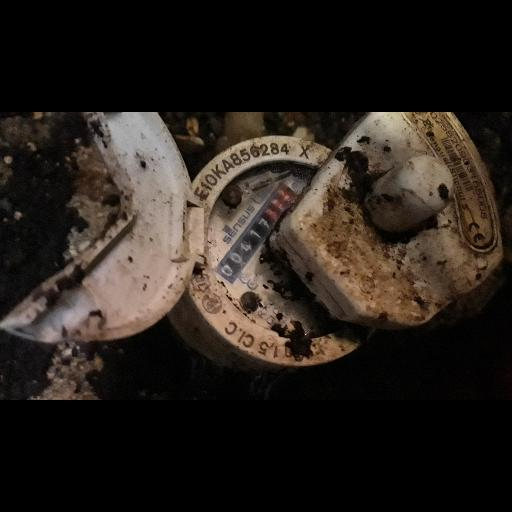0: (217, 259, 240, 281), (226, 249, 248, 270)
1: (246, 225, 266, 243)
3: (261, 204, 284, 224)
4: (268, 195, 291, 215), (236, 237, 257, 257)
7: (254, 213, 276, 233)
border_water_meter_number: (213, 181, 302, 284)
